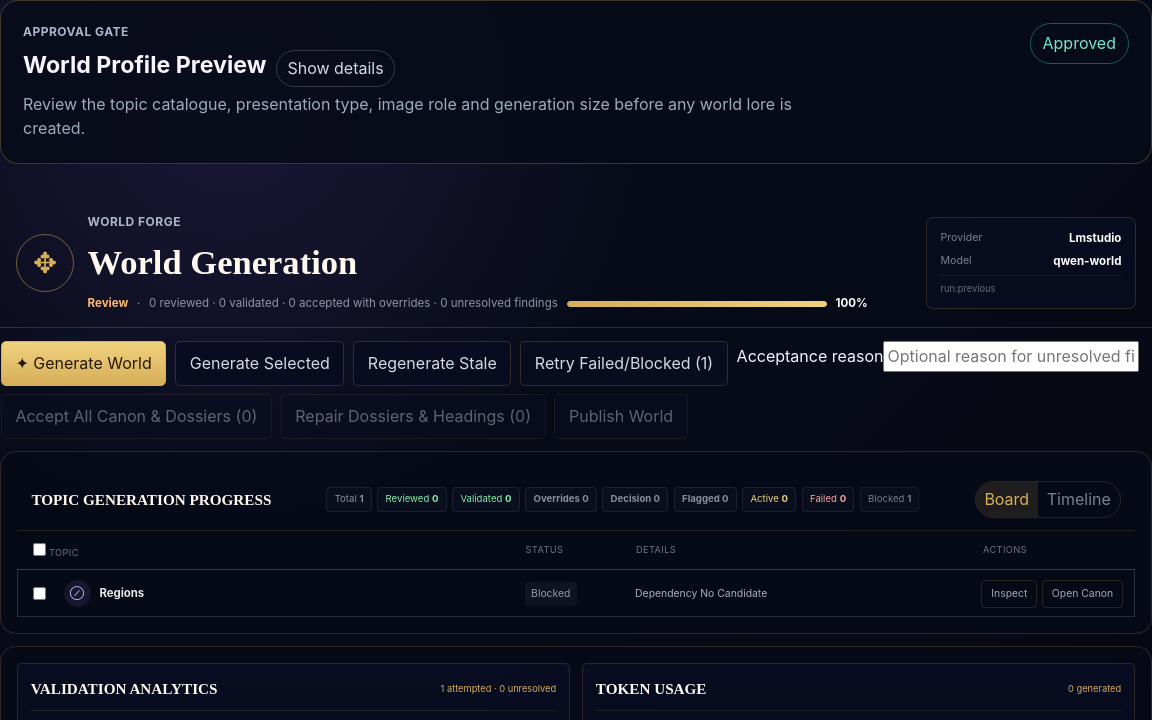
Test: RpgWorldGenerationDashboard › selects a retryable topic without retaining the change event
This screenshot has width=1152, height=720.
Click the checkbox named "Select Regions for retry". click: (40, 594)
box: [33,587,46,600]
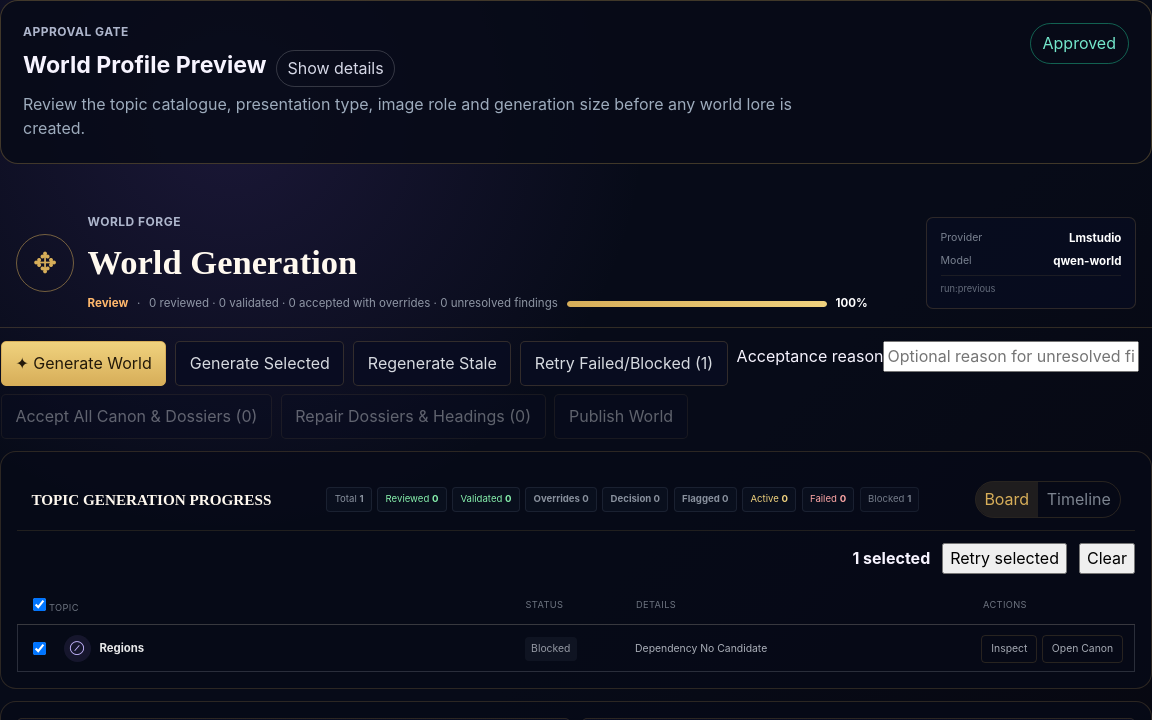
Check: the checkbox named "Select Regions for retry" is checked, box [33,642,46,655]
Check: the text "1 selected" is shown, box [852,546,930,571]
